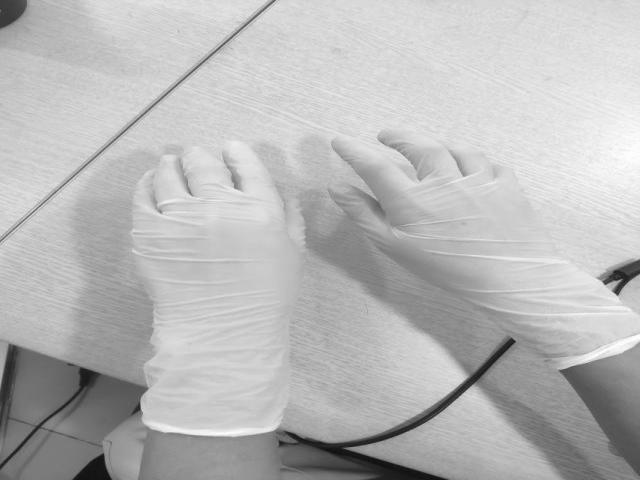gloved: (327, 129, 569, 305), (125, 142, 308, 327)
